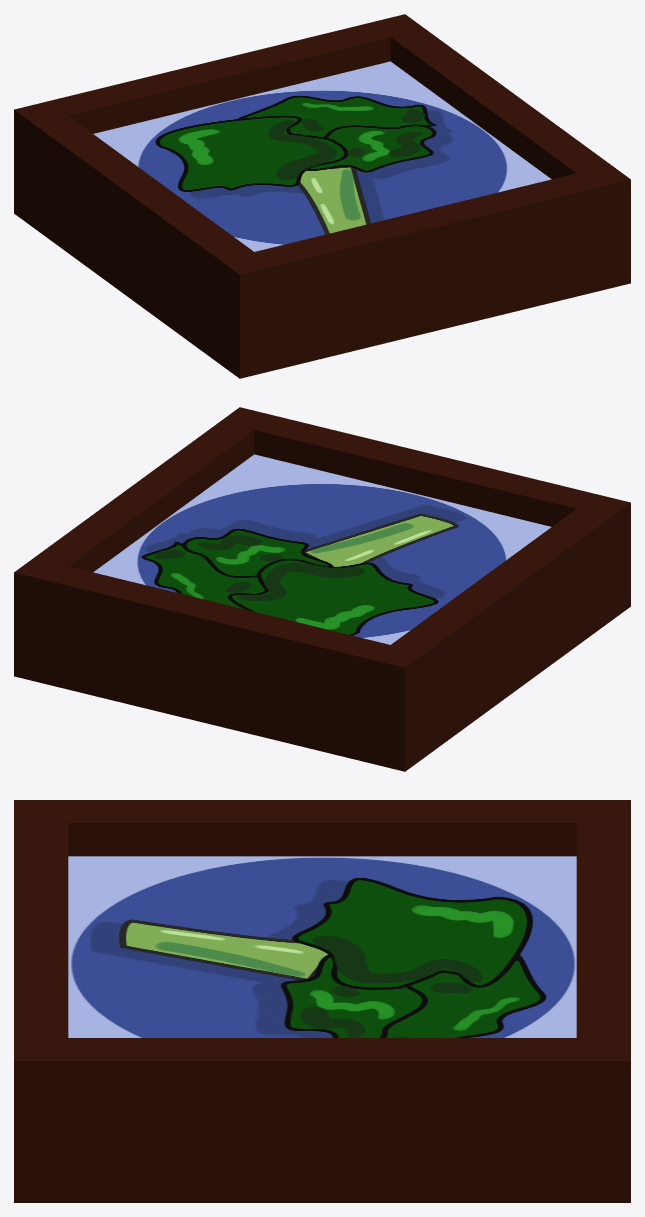
File: disk.FBX
The picture shows the model from 3 angles, top to bottom: view 1: azimuth 30°, elevation 25°; view 2: azimuth 150°, elevation 25°; view 3: azimuth 270°, elevation 25°; orthographic projection. The views are drawn at different scales.
Parts seen in each view (by area): view 1: Box054; view 2: Box054; view 3: Box054.
Part boxes in pixels (x1,y1,x2,y2): Box054: [14, 14, 630, 378]; Box054: [14, 407, 630, 771]; Box054: [14, 800, 630, 1202].
Size of the model in its own units: 197 by 49.99 by 197.
